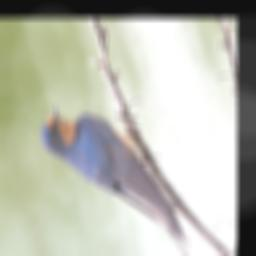Swallow: (31, 81, 197, 256)
